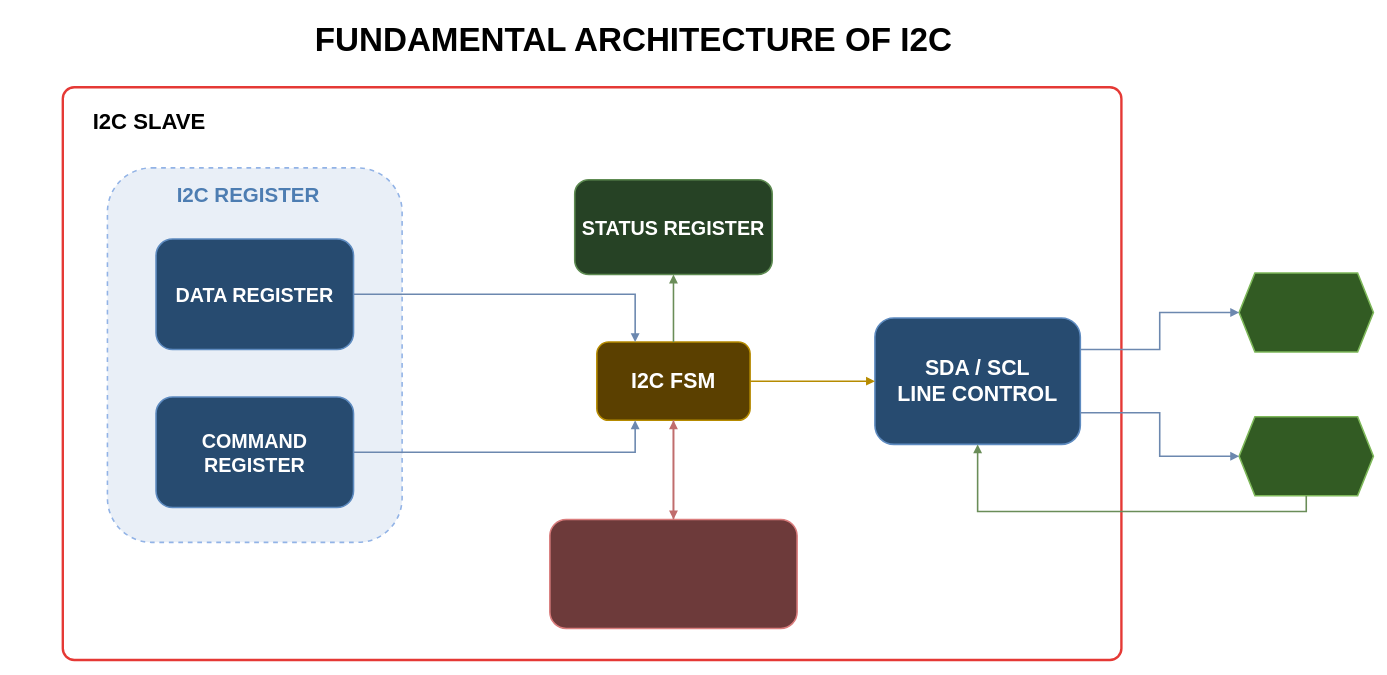
This 1387x675 diagram has some shape labels left out. Each missing label, with the box of its shape:
BIT TIMING & COUNTERS: (549, 518, 798, 629)
SCL: (1238, 272, 1374, 352)
SDA: (1238, 416, 1374, 496)
